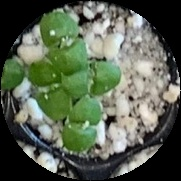Basil: (40, 13, 88, 71), (29, 60, 75, 120), (60, 97, 101, 153), (62, 60, 121, 94)
